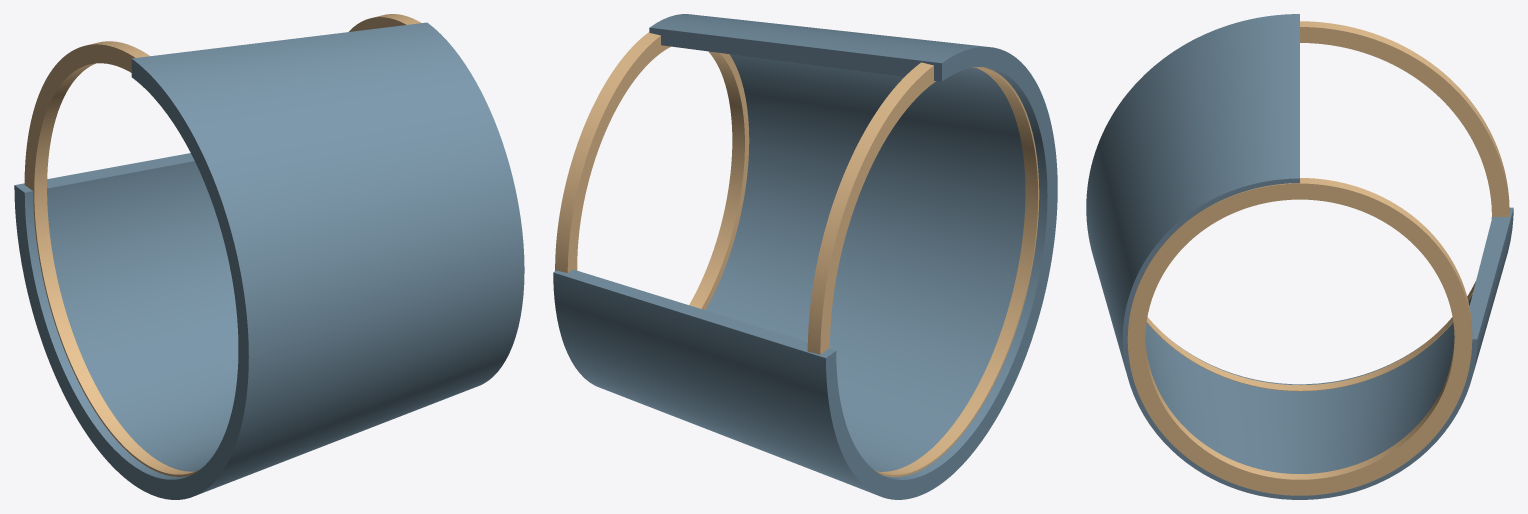
The model's file is intake-duct.glb.
3 views of the same model, side by side, from view 1: azimuth 30°, elevation 25°; view 2: azimuth 150°, elevation 25°; view 3: azimuth 270°, elevation 25° (orthographic). The views are drawn at different scales.
Parts seen in each view (by area): view 1: intake-duct - shell, intake-duct - bronze; view 2: intake-duct - shell, intake-duct - bronze; view 3: intake-duct - shell, intake-duct - bronze.
Boxes of the visible parts, box(x1,y1,x2,y2) form: intake-duct - shell: box(14, 22, 524, 499); intake-duct - bronze: box(24, 14, 421, 476); intake-duct - shell: box(553, 14, 1057, 499); intake-duct - bronze: box(555, 32, 1039, 476); intake-duct - shell: box(1086, 14, 1513, 499); intake-duct - bronze: box(1127, 21, 1509, 495).
Bounding box in the file's own units: 1.51 × 2.06 × 2.06.
